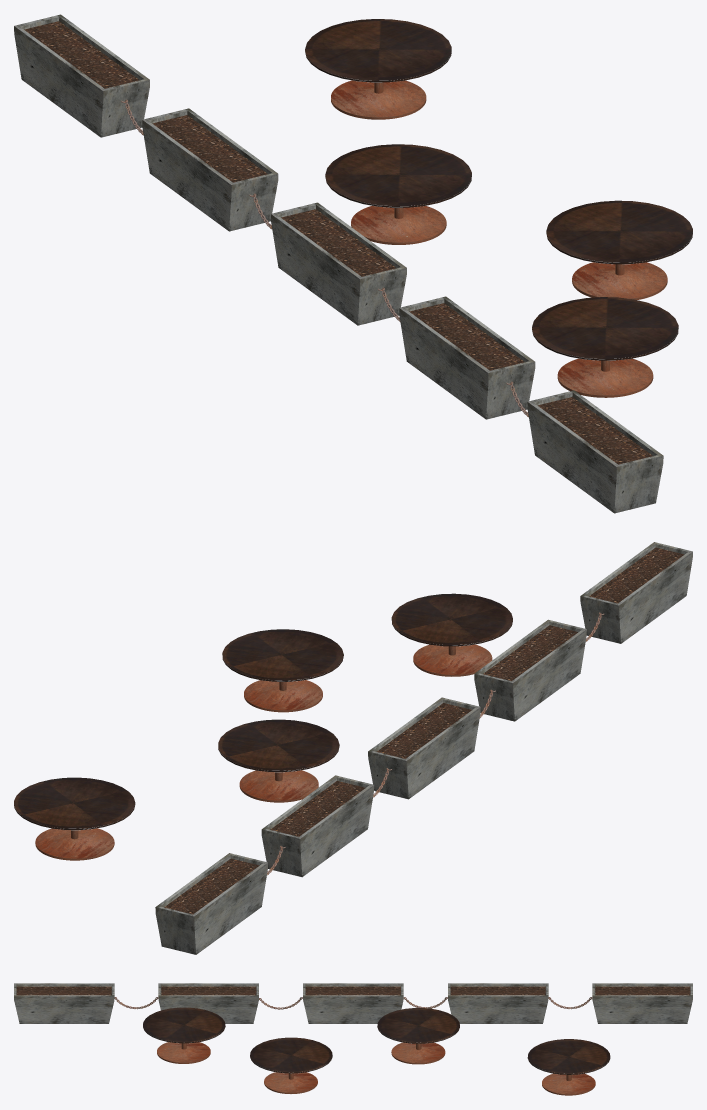
The model's file is RestaurantArea.FBX.
3 renders of one model, top to bottom at view 1: azimuth 30°, elevation 25°; view 2: azimuth 150°, elevation 25°; view 3: azimuth 270°, elevation 25°, orthographic. The views are drawn at different scales.
Parts seen in each view (by area): view 1: Box098, Box099, Box100, Box102, Box101, Cylinder007, Cylinder005, Cylinder010, Cylinder003, Cylinder001, Cylinder009, Cylinder006 (+6 smaller); view 2: Box101, Box099, Box100, Box102, Box098, Cylinder003, Cylinder005, Cylinder007, Cylinder010, Cylinder012, Cylinder001, Cylinder006 (+6 smaller); view 3: Box101, Box098, Box100, Box102, Box099, Cylinder010, Cylinder007, Cylinder005, Cylinder003, Cylinder006, Cylinder001, Cylinder009 (+6 smaller).
Part boxes in pixels (x1,y1,x2,y2): Box098: (527,390,663,513); Box099: (399,296,535,419); Box100: (142,108,278,231); Box102: (271,202,406,325); Box101: (14,14,149,137); Cylinder007: (532,297,678,360); Cylinder005: (325,144,471,207); Cylinder010: (546,200,692,264); Cylinder003: (305,19,451,82); Cylinder001: (331,80,426,119); Cylinder009: (557,358,653,397); Cylinder006: (351,206,446,244); Box101: (155,853,267,954); Box099: (474,619,586,721); Box100: (261,775,374,877); Box102: (368,697,480,799); Box098: (580,542,692,643); Cylinder003: (14,777,135,830); Cylinder005: (218,719,339,772); Cylinder007: (391,593,512,646); Cylinder010: (222,629,343,681); Cylinder012: (244,680,322,712); Cylinder001: (35,828,114,860); Cylinder006: (239,770,318,802); Box101: (592,983,692,1023); Box098: (14,983,114,1023); Box100: (448,983,548,1023); Box102: (303,983,403,1023); Box099: (158,983,258,1023); Cylinder010: (250,1037,332,1073); Cylinder007: (143,1007,225,1043); Cylinder005: (377,1008,459,1043); Cylinder003: (527,1039,610,1074); Cylinder006: (391,1042,445,1064); Cylinder001: (542,1073,595,1095); Cylinder009: (157,1042,210,1063).
Size of the model in its own units: 741 by 122 by 2432.
5 materials, 5 textured.
